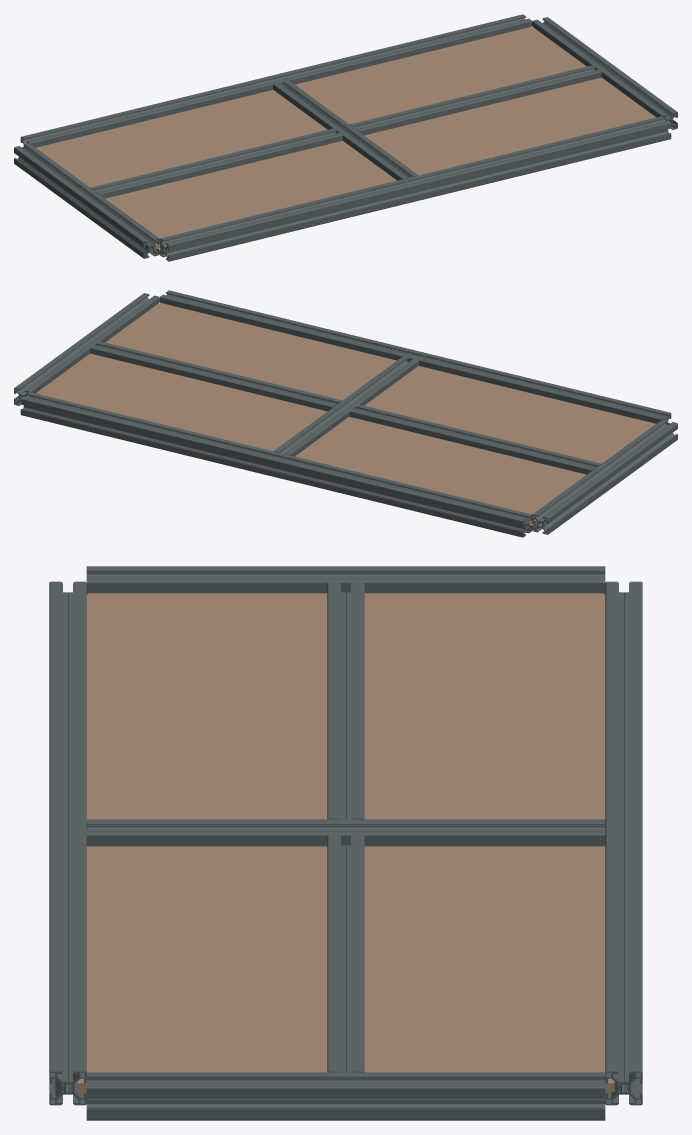
The model's file is floor-in-slots.glb.
3 renders of one model, top to bottom at view 1: azimuth 30°, elevation 25°; view 2: azimuth 150°, elevation 25°; view 3: azimuth 270°, elevation 25°, orthographic. The views are drawn at different scales.
Visible parts, largest first — view 1: Beam-body-front, Floor-Left-Front-8, Floor-Right-Front-8, Floor-Left-Rear-8, Floor-Right-Rear-8, Beam-body-rear, Beam-body-side-4, Beam-body-mid-Left, Beam-body-mid-Right, Beam-body-side-966, Beam-body-center; view 2: Beam-body-rear, Floor-Left-Rear-8, Floor-Right-Rear-8, Floor-Left-Front-8, Floor-Right-Front-8, Beam-body-front, Beam-body-side-4, Beam-body-mid-Left, Beam-body-mid-Right, Beam-body-side-966, Beam-body-center; view 3: Floor-Right-Front-8, Floor-Right-Rear-8, Floor-Left-Front-8, Floor-Left-Rear-8, Beam-body-side-966, Beam-body-rear, Beam-body-front, Beam-body-side-4, Beam-body-center, Beam-body-mid-Left, Beam-body-mid-Right.
Part boxes in pixels (box(x1,y1,x2,y2)): Beam-body-front: box(160, 116, 671, 261); Floor-Left-Front-8: box(105, 140, 396, 249); Floor-Right-Front-8: box(364, 77, 665, 175); Floor-Left-Rear-8: box(36, 90, 327, 187); Floor-Right-Rear-8: box(295, 27, 586, 124); Beam-body-rear: box(20, 14, 531, 149); Beam-body-side-4: box(14, 143, 159, 258); Beam-body-mid-Left: box(90, 128, 342, 198); Beam-body-mid-Right: box(349, 65, 601, 135); Beam-body-side-966: box(532, 17, 677, 129); Beam-body-center: box(273, 80, 418, 180); Beam-body-rear: box(20, 392, 531, 537); Floor-Left-Rear-8: box(295, 416, 586, 525); Floor-Right-Rear-8: box(26, 353, 327, 451); Floor-Left-Front-8: box(364, 366, 655, 463); Floor-Right-Front-8: box(105, 303, 396, 400); Beam-body-front: box(160, 290, 671, 425); Beam-body-side-4: box(532, 419, 677, 534); Beam-body-mid-Left: box(349, 404, 601, 474); Beam-body-mid-Right: box(90, 341, 342, 411); Beam-body-side-966: box(14, 293, 159, 405); Beam-body-center: box(273, 356, 418, 456); Floor-Right-Front-8: box(77, 846, 327, 1092); Floor-Right-Rear-8: box(364, 846, 614, 1092); Floor-Left-Front-8: box(86, 593, 327, 819); Floor-Left-Rear-8: box(364, 593, 605, 819); Beam-body-side-966: box(86, 1072, 605, 1120); Beam-body-rear: box(605, 581, 642, 1105); Beam-body-front: box(49, 581, 86, 1105); Beam-body-side-4: box(86, 566, 605, 594); Beam-body-center: box(86, 819, 605, 846); Beam-body-mid-Left: box(327, 581, 364, 819); Beam-body-mid-Right: box(327, 834, 364, 1072).
Bounding box in the file's own units: 0.992 × 0.03 × 0.477.
